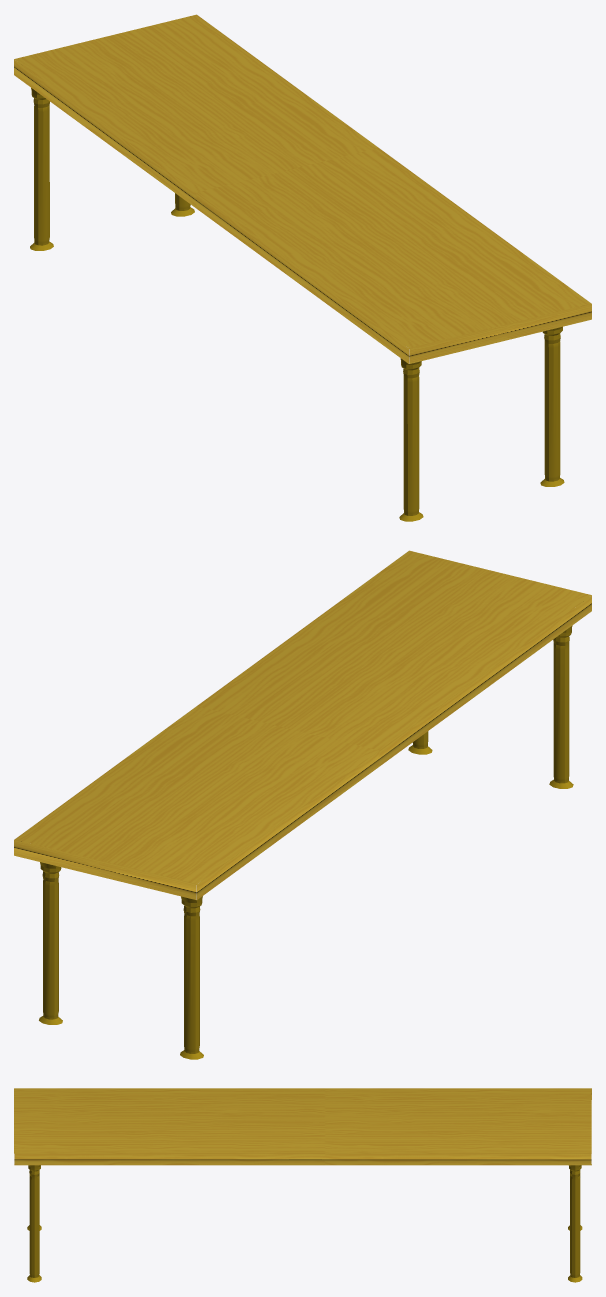
File: Long Table for Library.fbx
The picture shows the model from 3 angles, top to bottom: view 1: azimuth 30°, elevation 25°; view 2: azimuth 150°, elevation 25°; view 3: azimuth 270°, elevation 25°; orthographic projection. The views are drawn at different scales.
Visible parts, largest first — view 1: LongTable; view 2: LongTable; view 3: LongTable.
Part boxes in pixels (x1,y1,x2,y2): LongTable: (14,14,591,521); LongTable: (14,550,591,1059); LongTable: (14,1088,591,1282).
Bounding box in the file's own units: 243 × 233 × 910.
2 materials, 1 textured.
